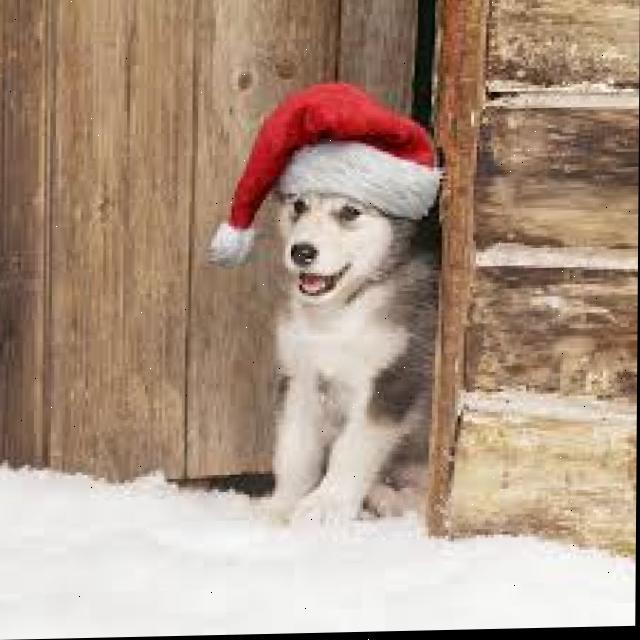ALASKAN_MALAMUTE: (203, 187, 499, 546)
